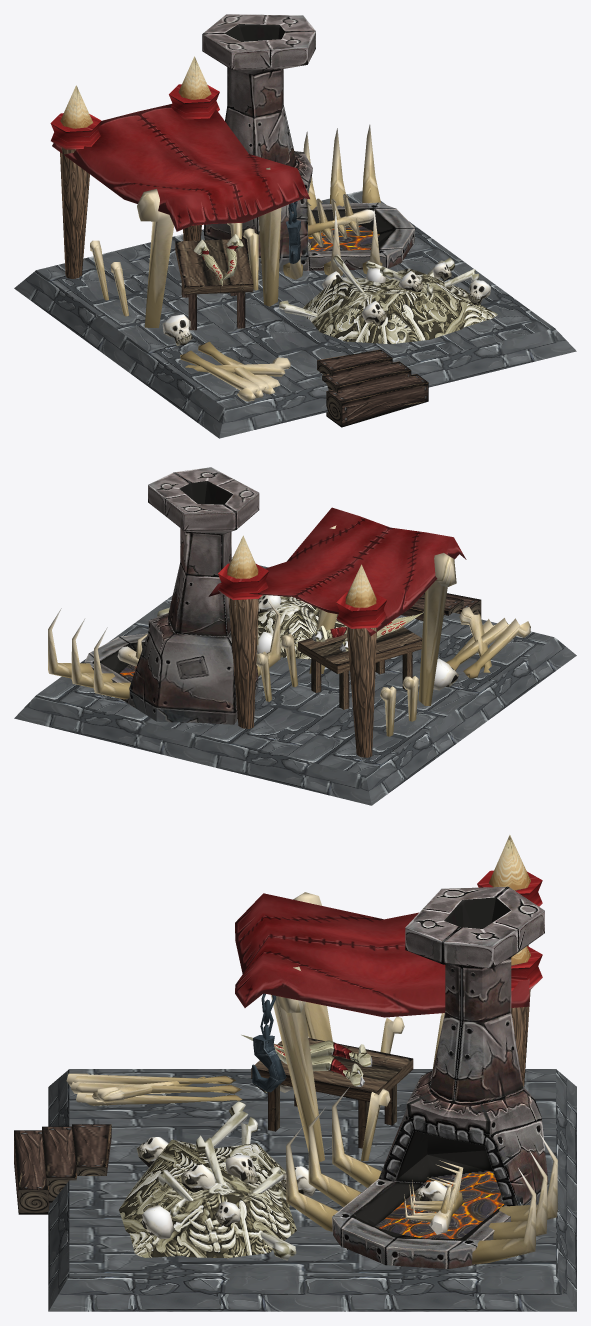
The model's file is Orc_BoneCarver.FBX.
3 views of the same model, one above another, from view 1: azimuth 30°, elevation 25°; view 2: azimuth 150°, elevation 25°; view 3: azimuth 270°, elevation 25° (orthographic). The views are drawn at different scales.
Visible parts, largest first — view 1: bedrock, Plane008, Chimney, pile_of_bones, femur034, stairs, table_wood, wood_pilar001, ribs, femur018, skulls, riibs_1 (+8 smaller); view 2: bedrock, Chimney, Plane008, femur034, wood_pilar002, wood_pilar001, table_wood, ribs, femur018, pile_of_bones, leather_ring001, leather_ring002 (+4 smaller); view 3: bedrock, Chimney, Plane008, pile_of_bones, ribs, stairs, femur034, table_wood, femur018, skulls, coal001, femurs (+7 smaller).
Boxes of the visible parts, box(x1,y1,x2,y2) form: bedrock: box(14, 190, 576, 438); Plane008: box(52, 104, 309, 231); Chimney: box(202, 14, 415, 271); pile_of_bones: box(302, 268, 497, 344); femur034: box(90, 167, 281, 327); stairs: box(317, 349, 428, 427); table_wood: box(175, 239, 253, 330); wood_pilar001: box(60, 85, 93, 278); ribs: box(283, 124, 382, 279); femur018: box(180, 341, 290, 401); skulls: box(322, 262, 490, 326); riibs_1: box(307, 194, 373, 247); bedrock: box(14, 565, 576, 805); Chimney: box(84, 467, 259, 724); Plane008: box(208, 507, 466, 636); femur034: box(256, 525, 456, 736); wood_pilar002: box(227, 535, 258, 728); wood_pilar001: box(345, 564, 376, 757); table_wood: box(298, 626, 422, 709); ribs: box(48, 600, 280, 699); femur018: box(446, 607, 530, 678); pile_of_bones: box(258, 595, 345, 659); leather_ring001: box(336, 592, 386, 628); leather_ring002: box(218, 563, 268, 600); bedrock: box(48, 1069, 576, 1311); Chimney: box(332, 886, 548, 1268); Plane008: box(235, 893, 529, 1017); pile_of_bones: box(119, 1139, 296, 1258); ribs: box(286, 1087, 557, 1264); stairs: box(14, 1124, 111, 1214); femur034: box(270, 892, 444, 1161); table_wood: box(251, 1038, 413, 1148); femur018: box(66, 1073, 242, 1105); skulls: box(137, 1137, 315, 1238); coal001: box(375, 1171, 503, 1239); femurs: box(158, 1101, 296, 1260).
Bounding box in the file's own units: 4501 × 4765 × 2887.
